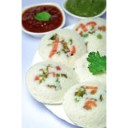idly: (26, 60, 78, 104), (65, 77, 106, 126), (42, 32, 85, 64), (75, 19, 105, 53)
